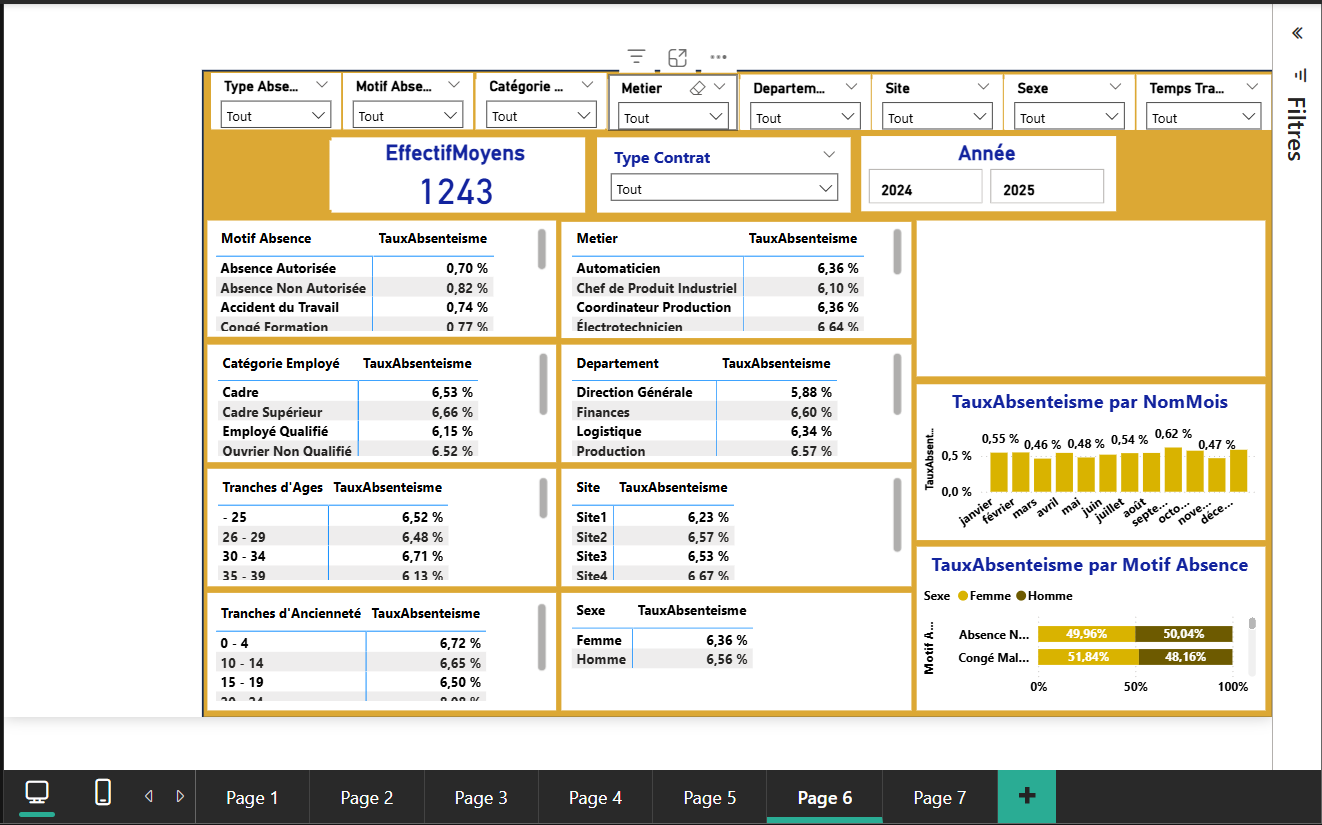

The dashboard page shown, as its layout file describes it:
{"tool":"powerbi","page":{"name":"Page 6","canvas":[1280,720],"ordinal":5},"visuals":[{"type":"pivotTable","fields":{"Rows":["Motif Absence.Motif Absence"],"Values":["Mesures.Taux Absenteisme (%)"]},"box":[209.3,220.5,343.5,113.4],"z":0},{"type":"pivotTable","fields":{"Values":["Mesures.Taux Absenteisme (%)"],"Rows":["Employé.Metier"]},"box":[567.2,220.5,343.5,113.4],"z":1000},{"type":"pivotTable","fields":{"Values":["Mesures.Taux Absenteisme (%)"],"Rows":["Employé.Catégorie Employé"]},"box":[210.9,346.7,343.5,113.4],"z":2000},{"type":"pivotTable","fields":{"Values":["Mesures.Taux Absenteisme (%)"],"Rows":["Employé.Departement"]},"box":[567.2,346.7,343.5,113.4],"z":3000},{"type":"pivotTable","fields":{"Values":["Mesures.Taux Absenteisme (%)"],"Rows":["Employé.Tranches d'Ages"]},"box":[210.9,472.9,343.5,113.4],"z":4000},{"type":"pivotTable","fields":{"Values":["Mesures.Taux Absenteisme (%)"],"Rows":["Employé.Site"]},"box":[567.2,472.9,343.5,113.4],"z":5000},{"type":"pivotTable","fields":{"Values":["Mesures.Taux Absenteisme (%)"],"Rows":["Employé.Tranches d'Ancienneté"]},"box":[209.3,599.1,343.5,108.6],"z":6000},{"type":"pivotTable","fields":{"Values":["Mesures.Taux Absenteisme (%)"],"Rows":["Employé.Sexe"]},"box":[567.2,595.9,343.5,113.4],"z":7000},{"type":"hundredPercentStackedBarChart","title":"TauxAbsenteisme par Motif Absence ","fields":{"Category":["Motif Absence.Motif Absence"],"Y":["Mesures.TauxAbsenteisme"],"Series":["Employé.Sexe"]},"box":[923.5,552.8,345.1,155],"z":8000},{"type":"clusteredColumnChart","fields":{"Category":["TableDates.NomMois"],"Y":["Mesures.TauxAbsenteisme"]},"box":[923.5,388.2,345.1,153.4],"z":9000},{"type":"card","title":"EffectifMoyens","fields":{"Values":["Mesures.EffectifMoyen"]},"box":[329.1,137.4,254,70.3],"z":10000},{"type":"slicer","fields":{"Values":["Employé.Type Contrat"]},"box":[602.3,137.4,249.2,70.3],"z":11000},{"type":"advancedSlicerVisual","fields":{"Values":["TableDates.Année"]},"box":[867.5,137.4,249.2,68.7],"z":12000},{"type":"slicer","fields":{"Values":["Motif Absence.Type Absence"]},"box":[209.3,70.3,131,55.9],"z":13000},{"type":"slicer","fields":{"Values":["Motif Absence.Motif Absence"]},"box":[342.8,70.3,131,55.9],"z":14000},{"type":"slicer","fields":{"Values":["Employé.Catégorie Employé"]},"box":[476.3,70.3,131,55.9],"z":15000},{"type":"slicer","fields":{"Values":["Employé.Metier"]},"box":[609.9,71.9,131,55.9],"z":16000},{"type":"slicer","fields":{"Values":["Employé.Departement"]},"box":[743.4,71.9,131,55.9],"z":17000},{"type":"slicer","fields":{"Values":["Employé.Site"]},"box":[876.9,71.9,131,55.9],"z":18000},{"type":"slicer","fields":{"Values":["Employé.Sexe"]},"box":[1010.4,71.9,131,55.9],"z":19000},{"type":"slicer","fields":{"Values":["Employé.Temps Travail"]},"box":[1143.9,71.9,135.8,55.9],"z":20000}]}

Visuals, with their boxes on the page's 1280x720 design canvas (x1, y1, x2, y2). These are canvas units, not pixel positions in the 1322x825 screenshot, which may show the page scaled, cropped or inside an application window:
pivotTable - Motif Absence.Motif Absence x Mesures.Taux Absenteisme (%): (x1=209, y1=220, x2=553, y2=334)
pivotTable - Mesures.Taux Absenteisme (%) x Employé.Metier: (x1=567, y1=220, x2=911, y2=334)
pivotTable - Mesures.Taux Absenteisme (%) x Employé.Catégorie Employé: (x1=211, y1=347, x2=554, y2=460)
pivotTable - Mesures.Taux Absenteisme (%) x Employé.Departement: (x1=567, y1=347, x2=911, y2=460)
pivotTable - Mesures.Taux Absenteisme (%) x Employé.Tranches d'Ages: (x1=211, y1=473, x2=554, y2=586)
pivotTable - Mesures.Taux Absenteisme (%) x Employé.Site: (x1=567, y1=473, x2=911, y2=586)
pivotTable - Mesures.Taux Absenteisme (%) x Employé.Tranches d'Ancienneté: (x1=209, y1=599, x2=553, y2=708)
pivotTable - Mesures.Taux Absenteisme (%) x Employé.Sexe: (x1=567, y1=596, x2=911, y2=709)
"TauxAbsenteisme par Motif Absence " hundredPercentStackedBarChart: (x1=924, y1=553, x2=1269, y2=708)
clusteredColumnChart - TableDates.NomMois x Mesures.TauxAbsenteisme: (x1=924, y1=388, x2=1269, y2=542)
"EffectifMoyens" card: (x1=329, y1=137, x2=583, y2=208)
slicer - Employé.Type Contrat: (x1=602, y1=137, x2=852, y2=208)
advancedSlicerVisual - TableDates.Année: (x1=868, y1=137, x2=1117, y2=206)
slicer - Motif Absence.Type Absence: (x1=209, y1=70, x2=340, y2=126)
slicer - Motif Absence.Motif Absence: (x1=343, y1=70, x2=474, y2=126)
slicer - Employé.Catégorie Employé: (x1=476, y1=70, x2=607, y2=126)
slicer - Employé.Metier: (x1=610, y1=72, x2=741, y2=128)
slicer - Employé.Departement: (x1=743, y1=72, x2=874, y2=128)
slicer - Employé.Site: (x1=877, y1=72, x2=1008, y2=128)
slicer - Employé.Sexe: (x1=1010, y1=72, x2=1141, y2=128)
slicer - Employé.Temps Travail: (x1=1144, y1=72, x2=1280, y2=128)
